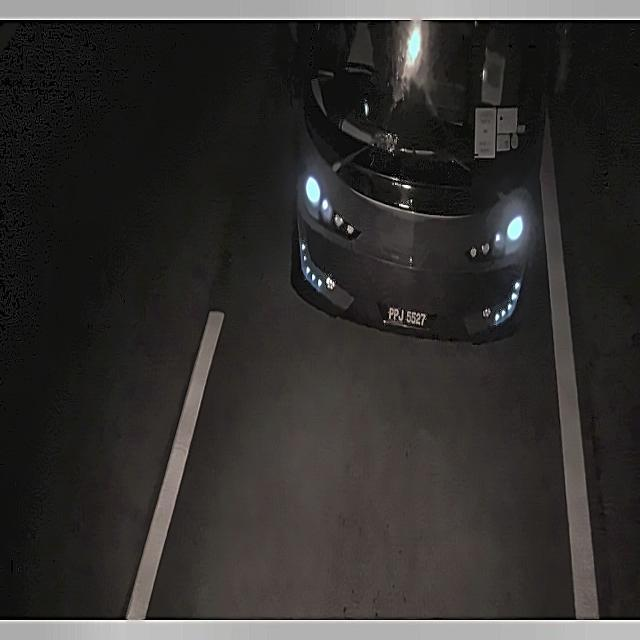car: (374, 293, 450, 339)
